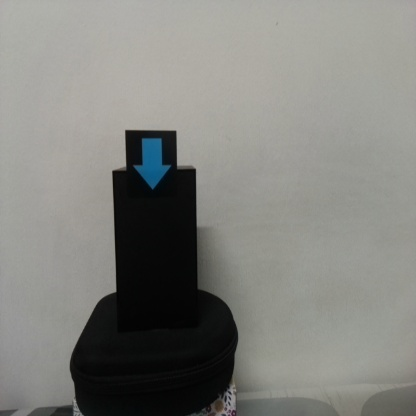id_2: (125, 131, 178, 199)
